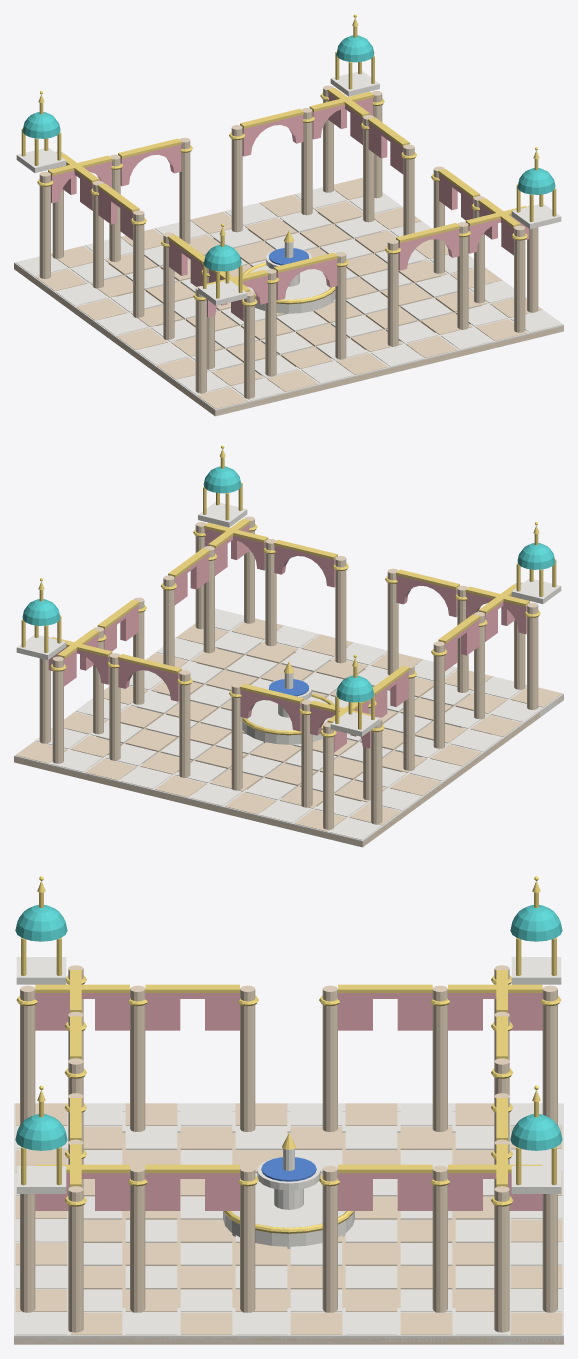
File: room_courtyard.glb
The picture shows the model from 3 angles, top to bottom: view 1: azimuth 30°, elevation 25°; view 2: azimuth 150°, elevation 25°; view 3: azimuth 270°, elevation 25°; orthographic projection. The views are drawn at different scales.
Parts seen in each view (by area): view 1: Room_Courtyard; view 2: Room_Courtyard; view 3: Room_Courtyard.
Boxes of the visible parts, box(x1,y1,x2,y2) form: Room_Courtyard: box(14, 14, 563, 416); Room_Courtyard: box(14, 445, 563, 847); Room_Courtyard: box(14, 876, 563, 1344).
Bounding box in the file's own units: 20 × 9.93 × 20.
